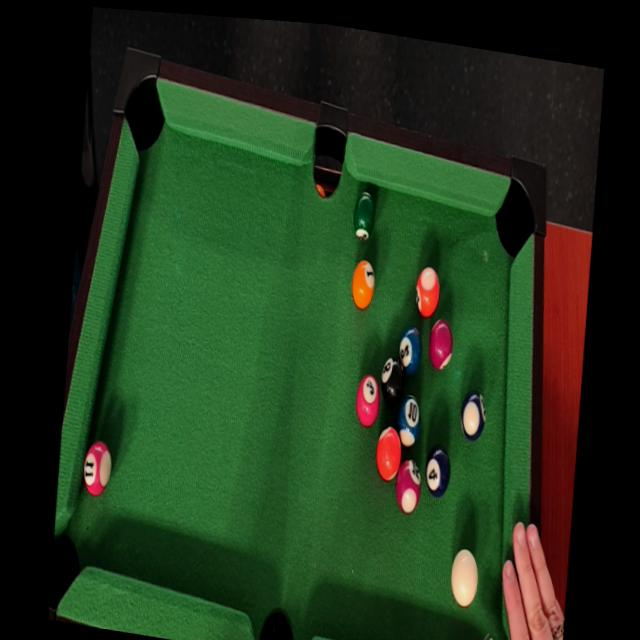cue ball: (442, 540, 483, 620)
other: (419, 431, 458, 505), (76, 434, 116, 503), (367, 424, 405, 488), (376, 347, 410, 416), (390, 449, 422, 522), (410, 260, 445, 325), (345, 248, 377, 315), (455, 384, 489, 447), (426, 315, 457, 382), (395, 317, 426, 384), (350, 369, 382, 433), (346, 186, 377, 249), (394, 390, 422, 450)
